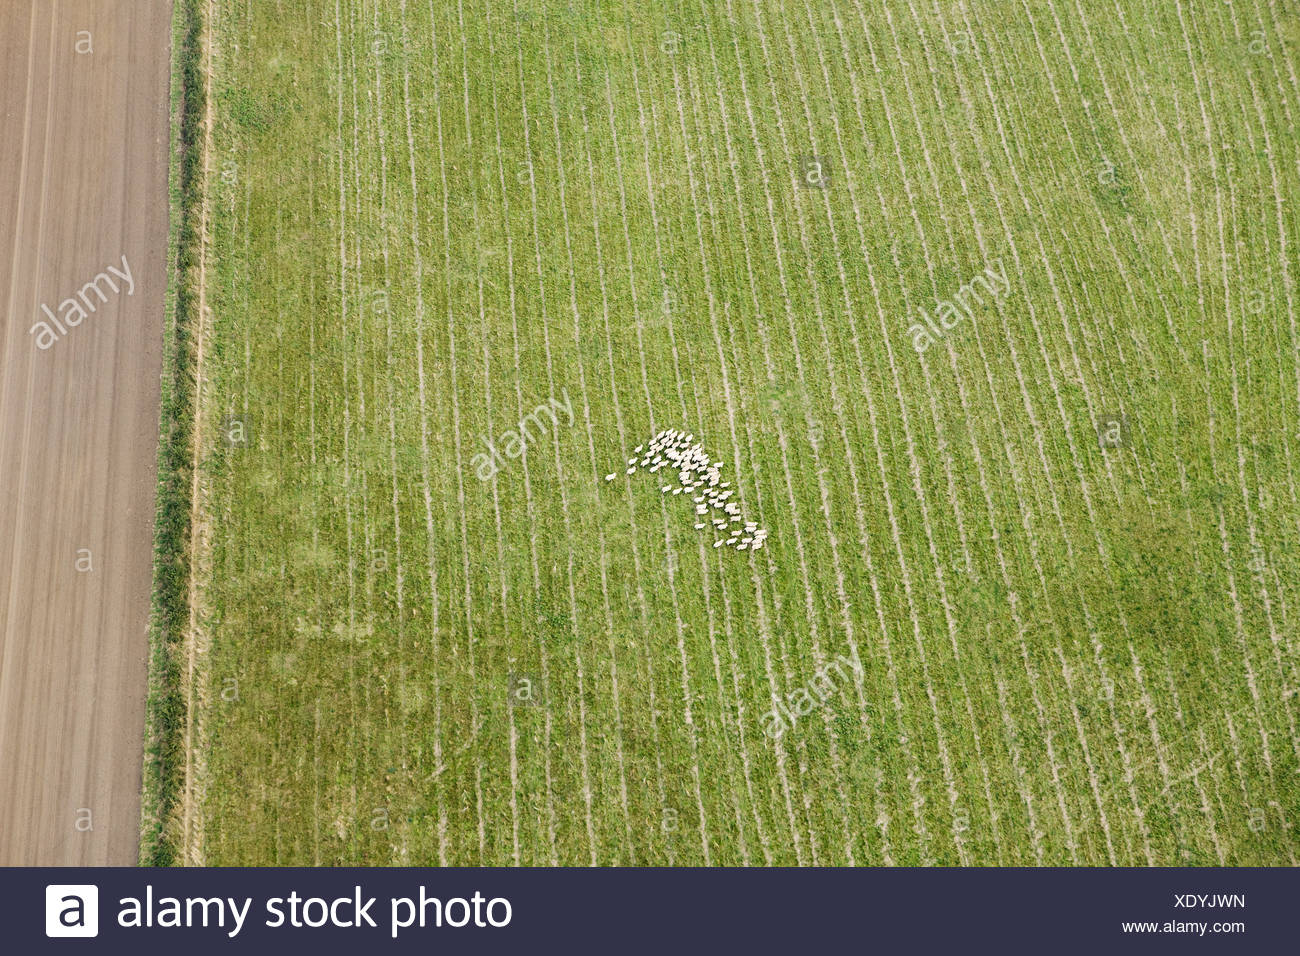sheep: (661, 483, 673, 494), (725, 537, 738, 547), (713, 539, 725, 549), (664, 446, 676, 455), (737, 543, 750, 551), (626, 465, 636, 475), (640, 457, 650, 467), (670, 450, 680, 460), (660, 435, 670, 445), (606, 472, 617, 482), (627, 456, 638, 465), (672, 487, 683, 496), (694, 495, 706, 504), (671, 459, 682, 468), (725, 502, 739, 509), (731, 529, 743, 537), (729, 508, 741, 516), (697, 508, 711, 515), (713, 518, 726, 525), (679, 471, 692, 479), (709, 496, 719, 505), (689, 462, 699, 471), (669, 430, 679, 439), (676, 430, 685, 440), (694, 523, 706, 531), (709, 489, 720, 497), (659, 460, 670, 468), (645, 449, 656, 457), (697, 465, 709, 473), (684, 486, 696, 493), (714, 502, 726, 509), (723, 490, 735, 497), (719, 481, 731, 488), (650, 463, 659, 472), (656, 430, 665, 439), (694, 447, 703, 456), (635, 443, 643, 453), (731, 515, 744, 521), (742, 537, 753, 544), (652, 455, 663, 462), (679, 442, 690, 449), (686, 433, 694, 442), (683, 479, 693, 486), (714, 461, 724, 468), (746, 526, 757, 532), (694, 481, 705, 487), (649, 438, 657, 445), (701, 458, 710, 465), (699, 475, 710, 481)
